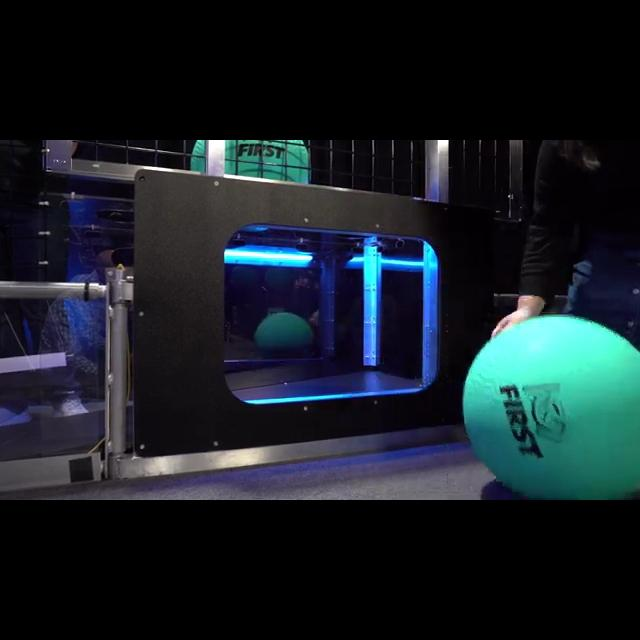ALGAE: (460, 312, 638, 498), (190, 140, 310, 186)
